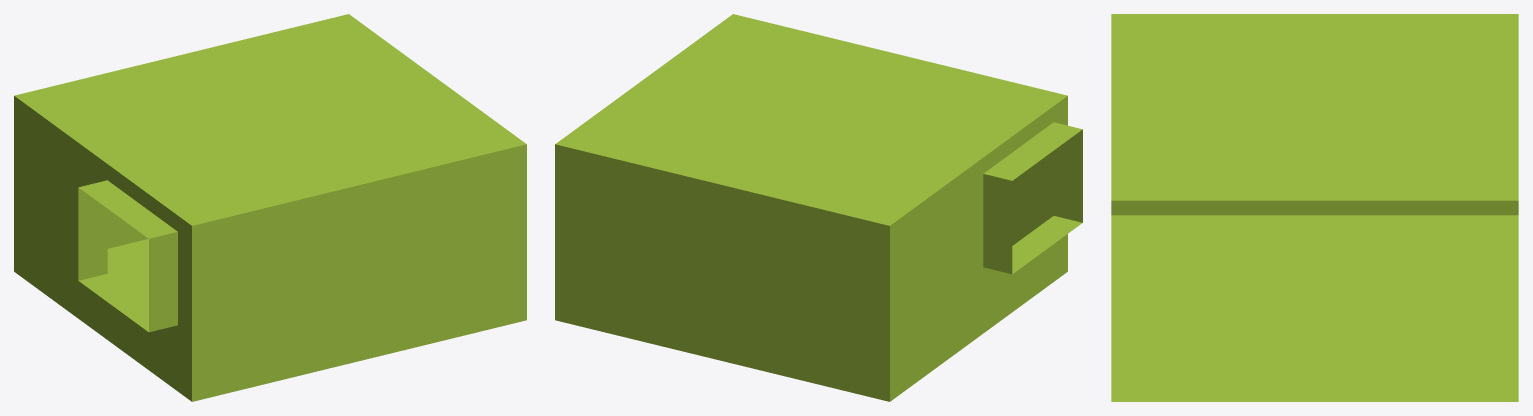
File: Walls_Room.obj
3 views of the same model, side by side, from view 1: azimuth 30°, elevation 25°; view 2: azimuth 150°, elevation 25°; view 3: azimuth 270°, elevation 25° (orthographic). The views are drawn at different scales.
Visible parts, largest first — view 1: Plane; view 2: Plane; view 3: Plane.
Part boxes in pixels (<box>): Plane: <box>14,14,526,401</box>; Plane: <box>555,14,1082,401</box>; Plane: <box>1111,14,1518,401</box>.
Bounding box in the file's own units: 8.7 × 4.02 × 7.37.
